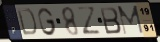8: (60, 6, 80, 37)
B: (98, 6, 122, 35)
D: (16, 7, 38, 37)
G: (37, 7, 58, 37)
M: (116, 4, 145, 36)
Z: (75, 6, 103, 37)
